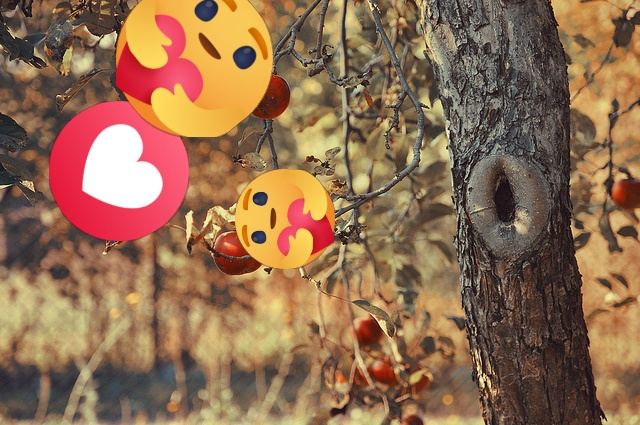care: (116, 0, 273, 137), (235, 169, 335, 269)
love: (49, 101, 189, 241)
